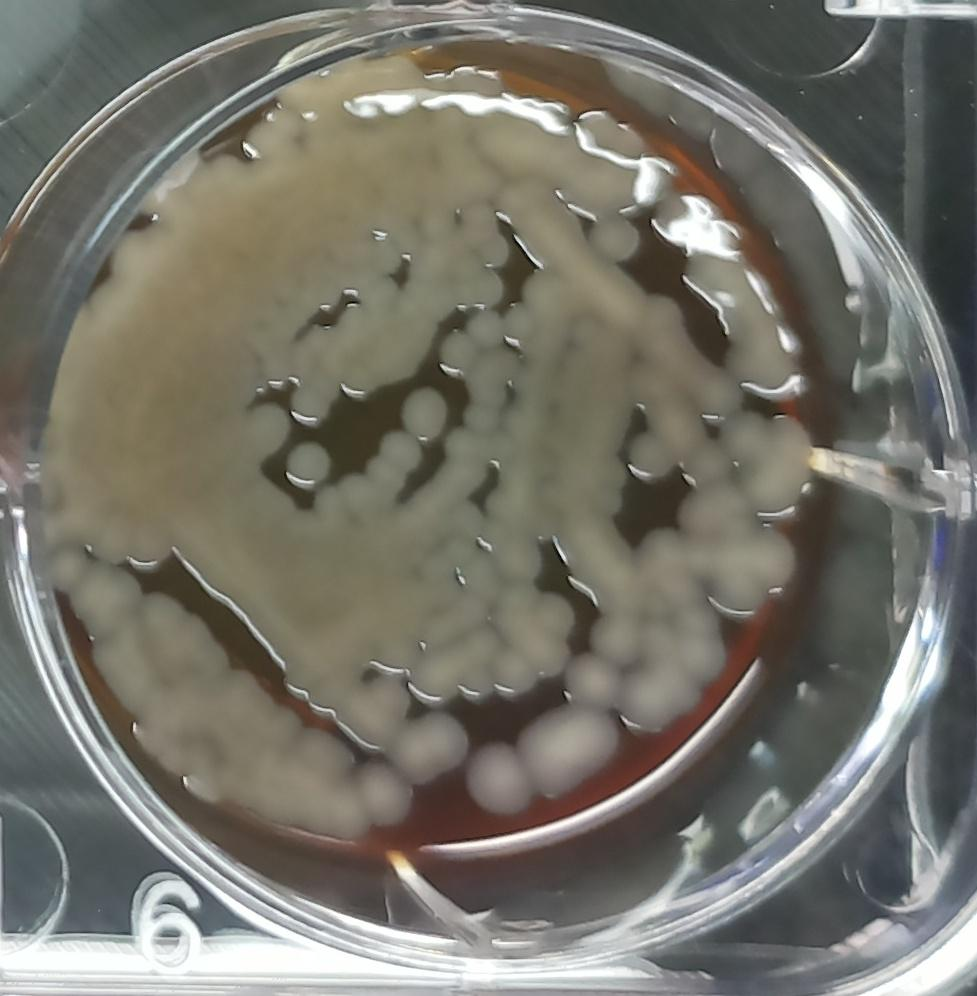ahydrophila: (678, 482, 803, 611), (413, 199, 518, 311), (719, 404, 818, 516), (489, 579, 576, 697), (514, 697, 617, 795), (440, 308, 517, 439), (376, 704, 473, 791), (393, 383, 451, 447), (622, 426, 682, 485), (561, 656, 626, 710), (583, 610, 646, 662), (277, 436, 332, 495), (584, 211, 642, 266)
